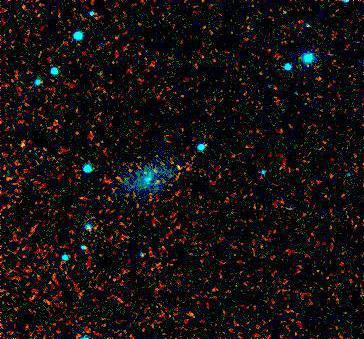star: (176, 297, 206, 327)
